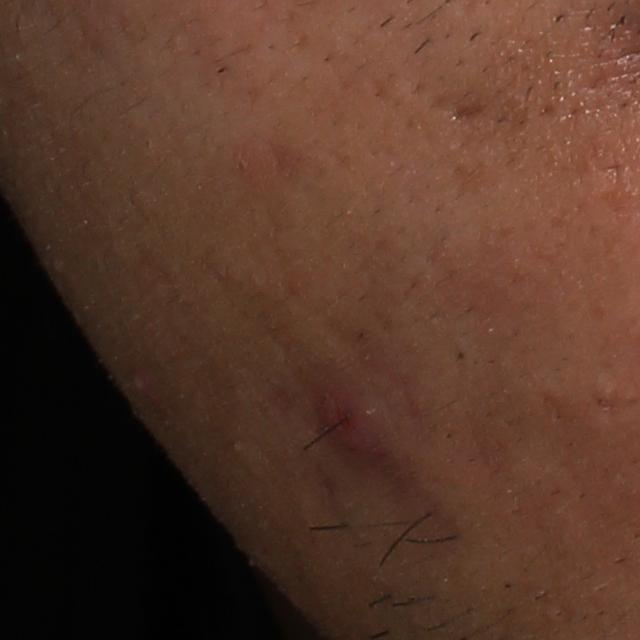atrophic_scar: (406, 72, 516, 175)
papule: (316, 395, 384, 471)
